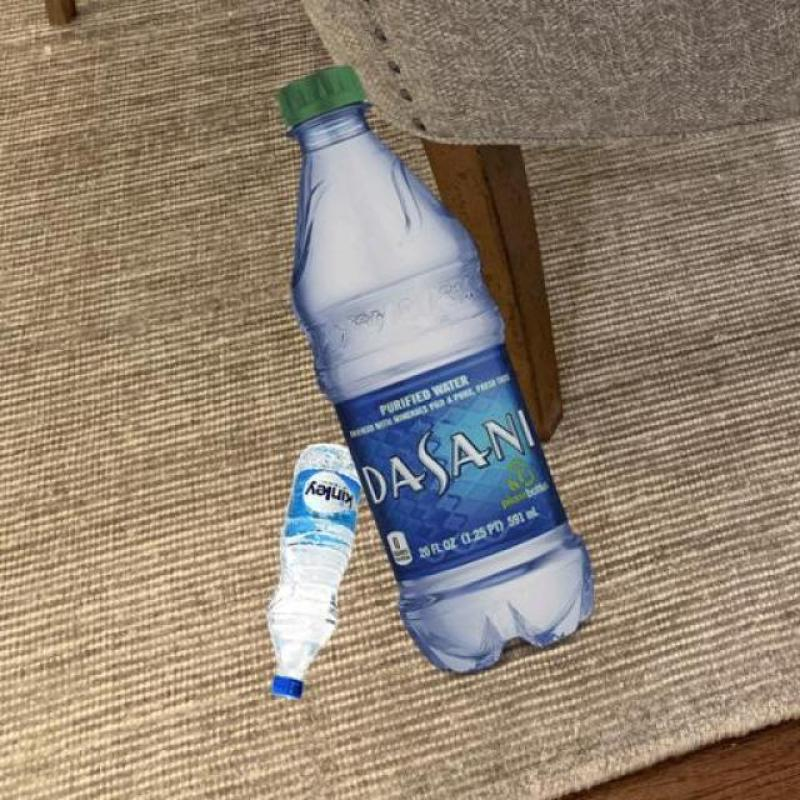botella: (272, 65, 596, 685), (266, 442, 356, 698)
